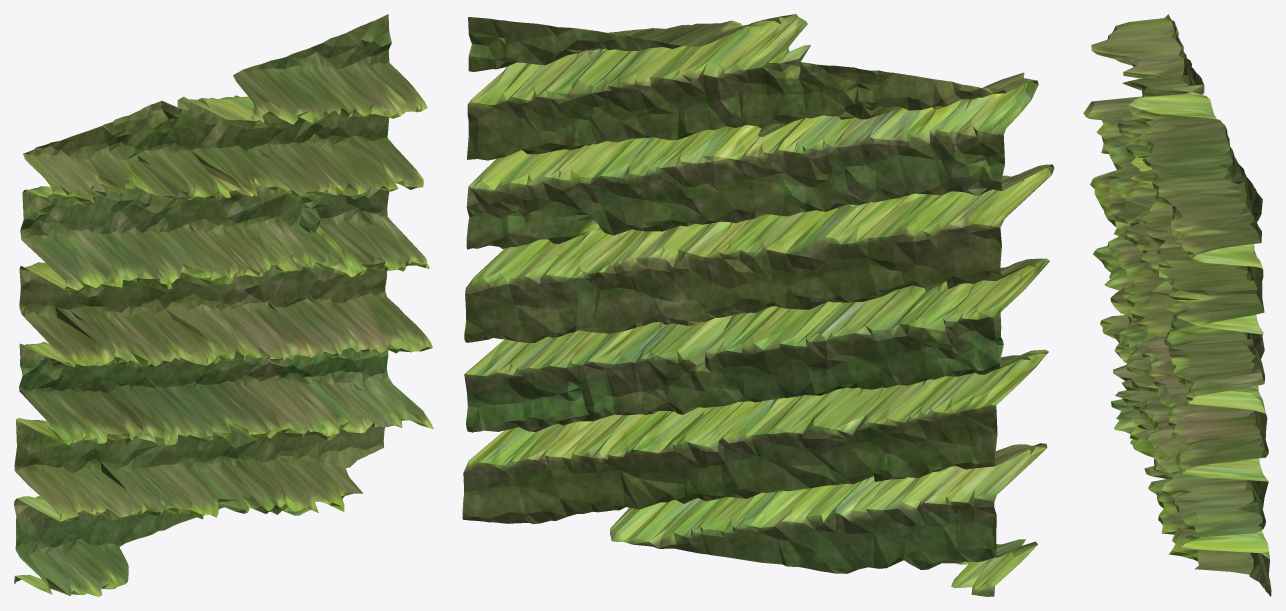
File: map_240_0.obj
3 views of the same model, side by side, from view 1: azimuth 30°, elevation 25°; view 2: azimuth 150°, elevation 25°; view 3: azimuth 270°, elevation 25° (orthographic). The views are drawn at different scales.
Visible parts, largest first — view 1: grp1; view 2: grp1; view 3: grp1.
Boxes of the visible parts, x1,y1,x2,y2 form: grp1: (14,14,433,596); grp1: (462,14,1054,596); grp1: (1083,14,1271,596).
Size of the model in its own units: 10 by 10 by 4.29.
1 material, 1 textured.
